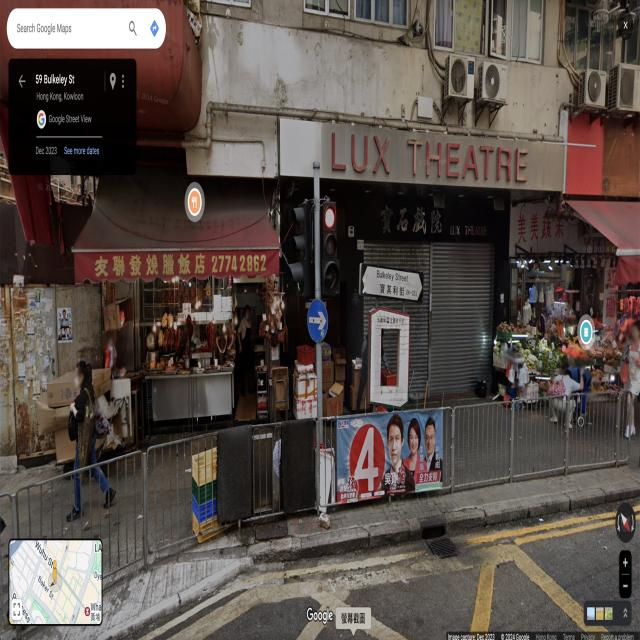Order-Sign: (308, 298, 328, 342)
Street-Direction-Sign: (361, 264, 424, 300)
